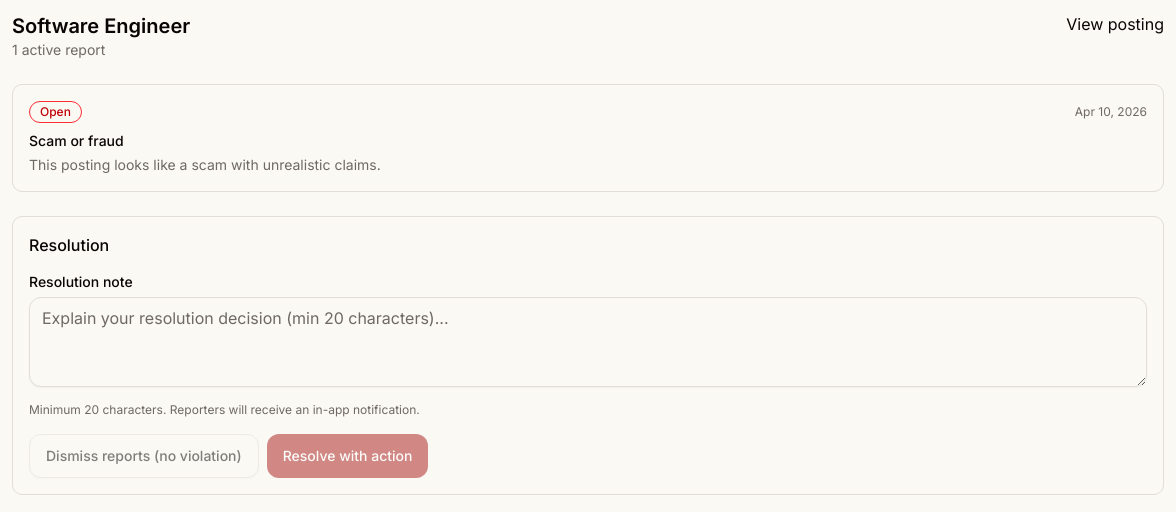
Test: ReportInvestigationDetail › dismiss button enables when note >= 20 chars
This screenshot has width=1176, height=512.
Type "This posting was reviewed and no violations were found after thorough investigation." into the text box with test id "resolution-note-textarea" at (588, 342), box [29,297,1147,387]
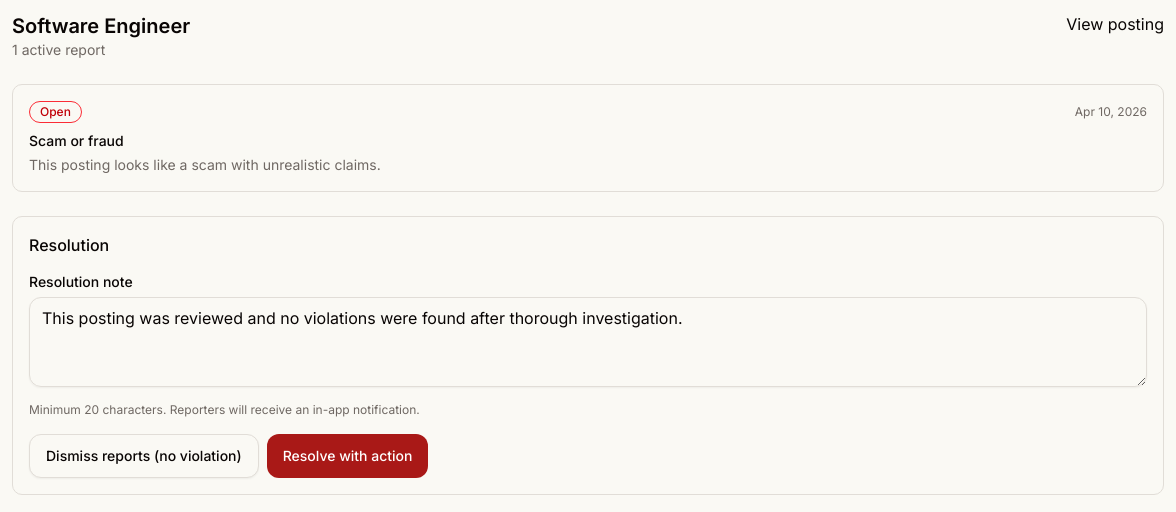
Result: the button with test id "dismiss-reports-button" is enabled at [29,434,259,478]
